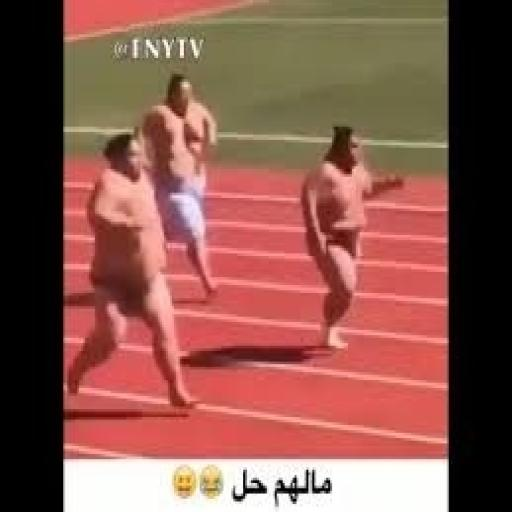running: (65, 127, 200, 414), (297, 118, 407, 354), (136, 71, 224, 306)
